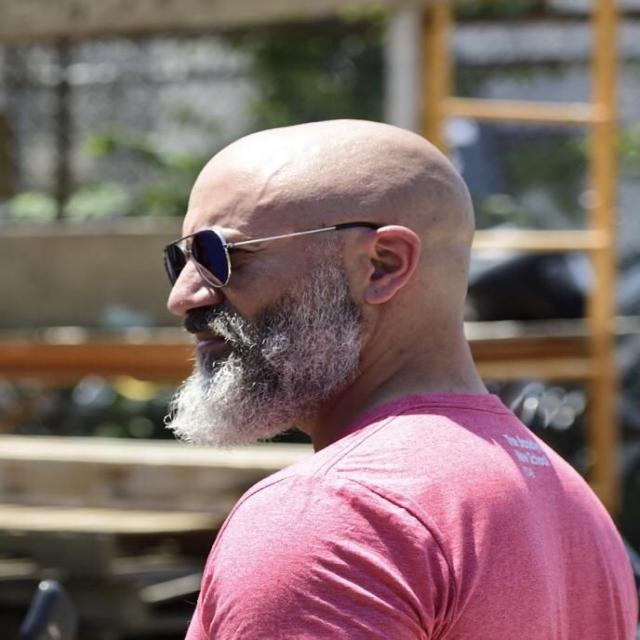bald: (167, 114, 482, 252)
